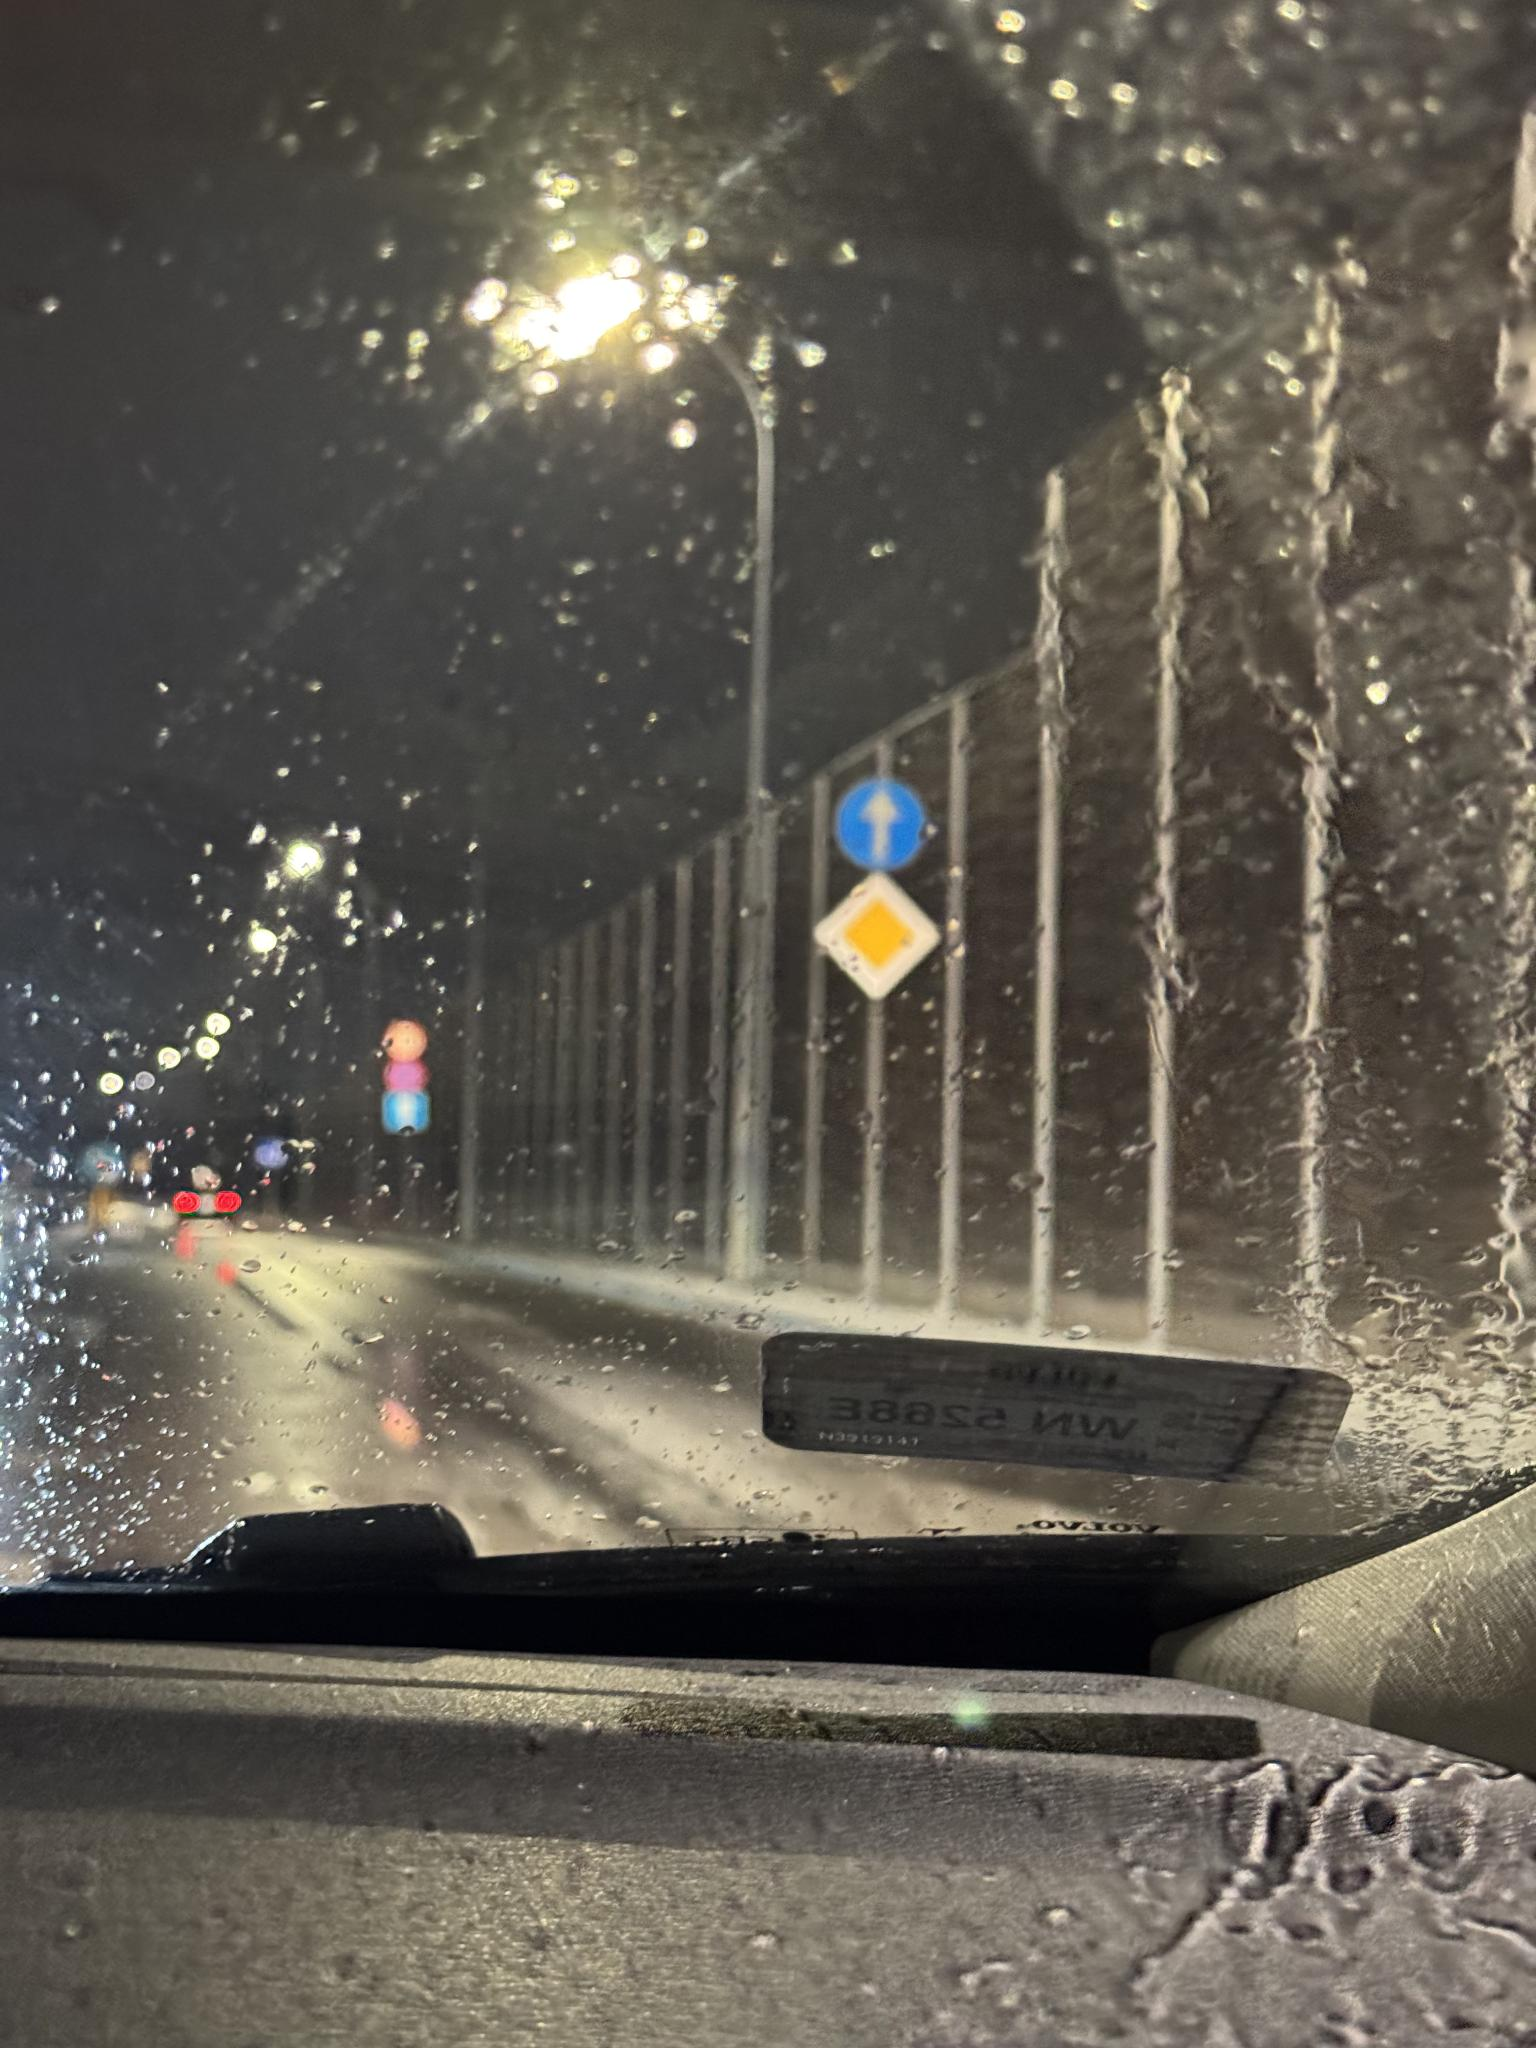information: (813, 871, 947, 1003), (381, 1092, 434, 1135)
mandatory: (834, 777, 926, 869)
prohibitory: (381, 1018, 429, 1059), (384, 1059, 431, 1092)
